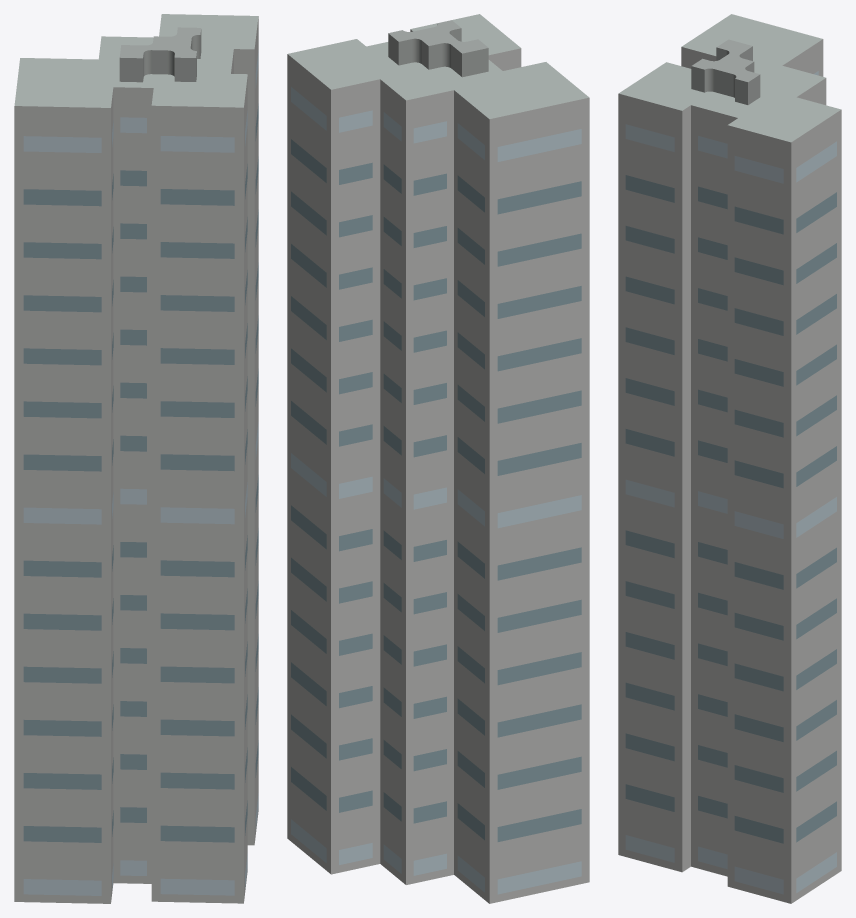
File: fallback-lake-palace-108.glb
3 renders of one model, left to right at view 1: azimuth 30°, elevation 25°; view 2: azimuth 150°, elevation 25°; view 3: azimuth 270°, elevation 25°, orthographic. The views are drawn at different scales.
Visible parts, largest first — view 1: fallback-lake-palace-108; view 2: fallback-lake-palace-108; view 3: fallback-lake-palace-108.
Part boxes in pixels (x1,y1,x2,y2): fallback-lake-palace-108: (14, 14, 258, 903); fallback-lake-palace-108: (287, 14, 589, 903); fallback-lake-palace-108: (618, 14, 841, 903).
Bounding box in the file's own units: 28.81 × 82 × 21.13.
